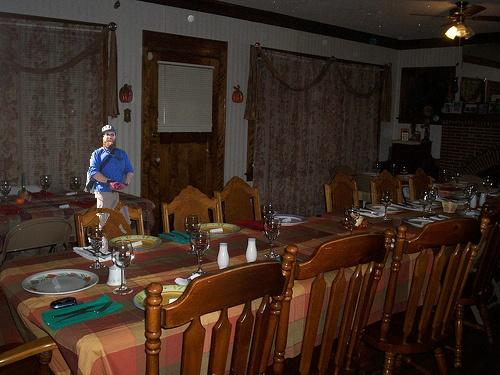tampered: (84, 126, 138, 256)
